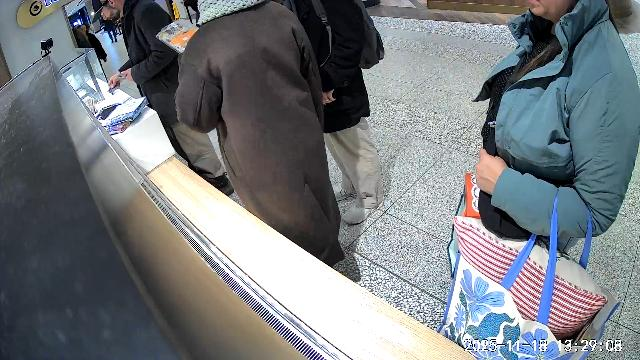sushi-box: (155, 17, 200, 56)
